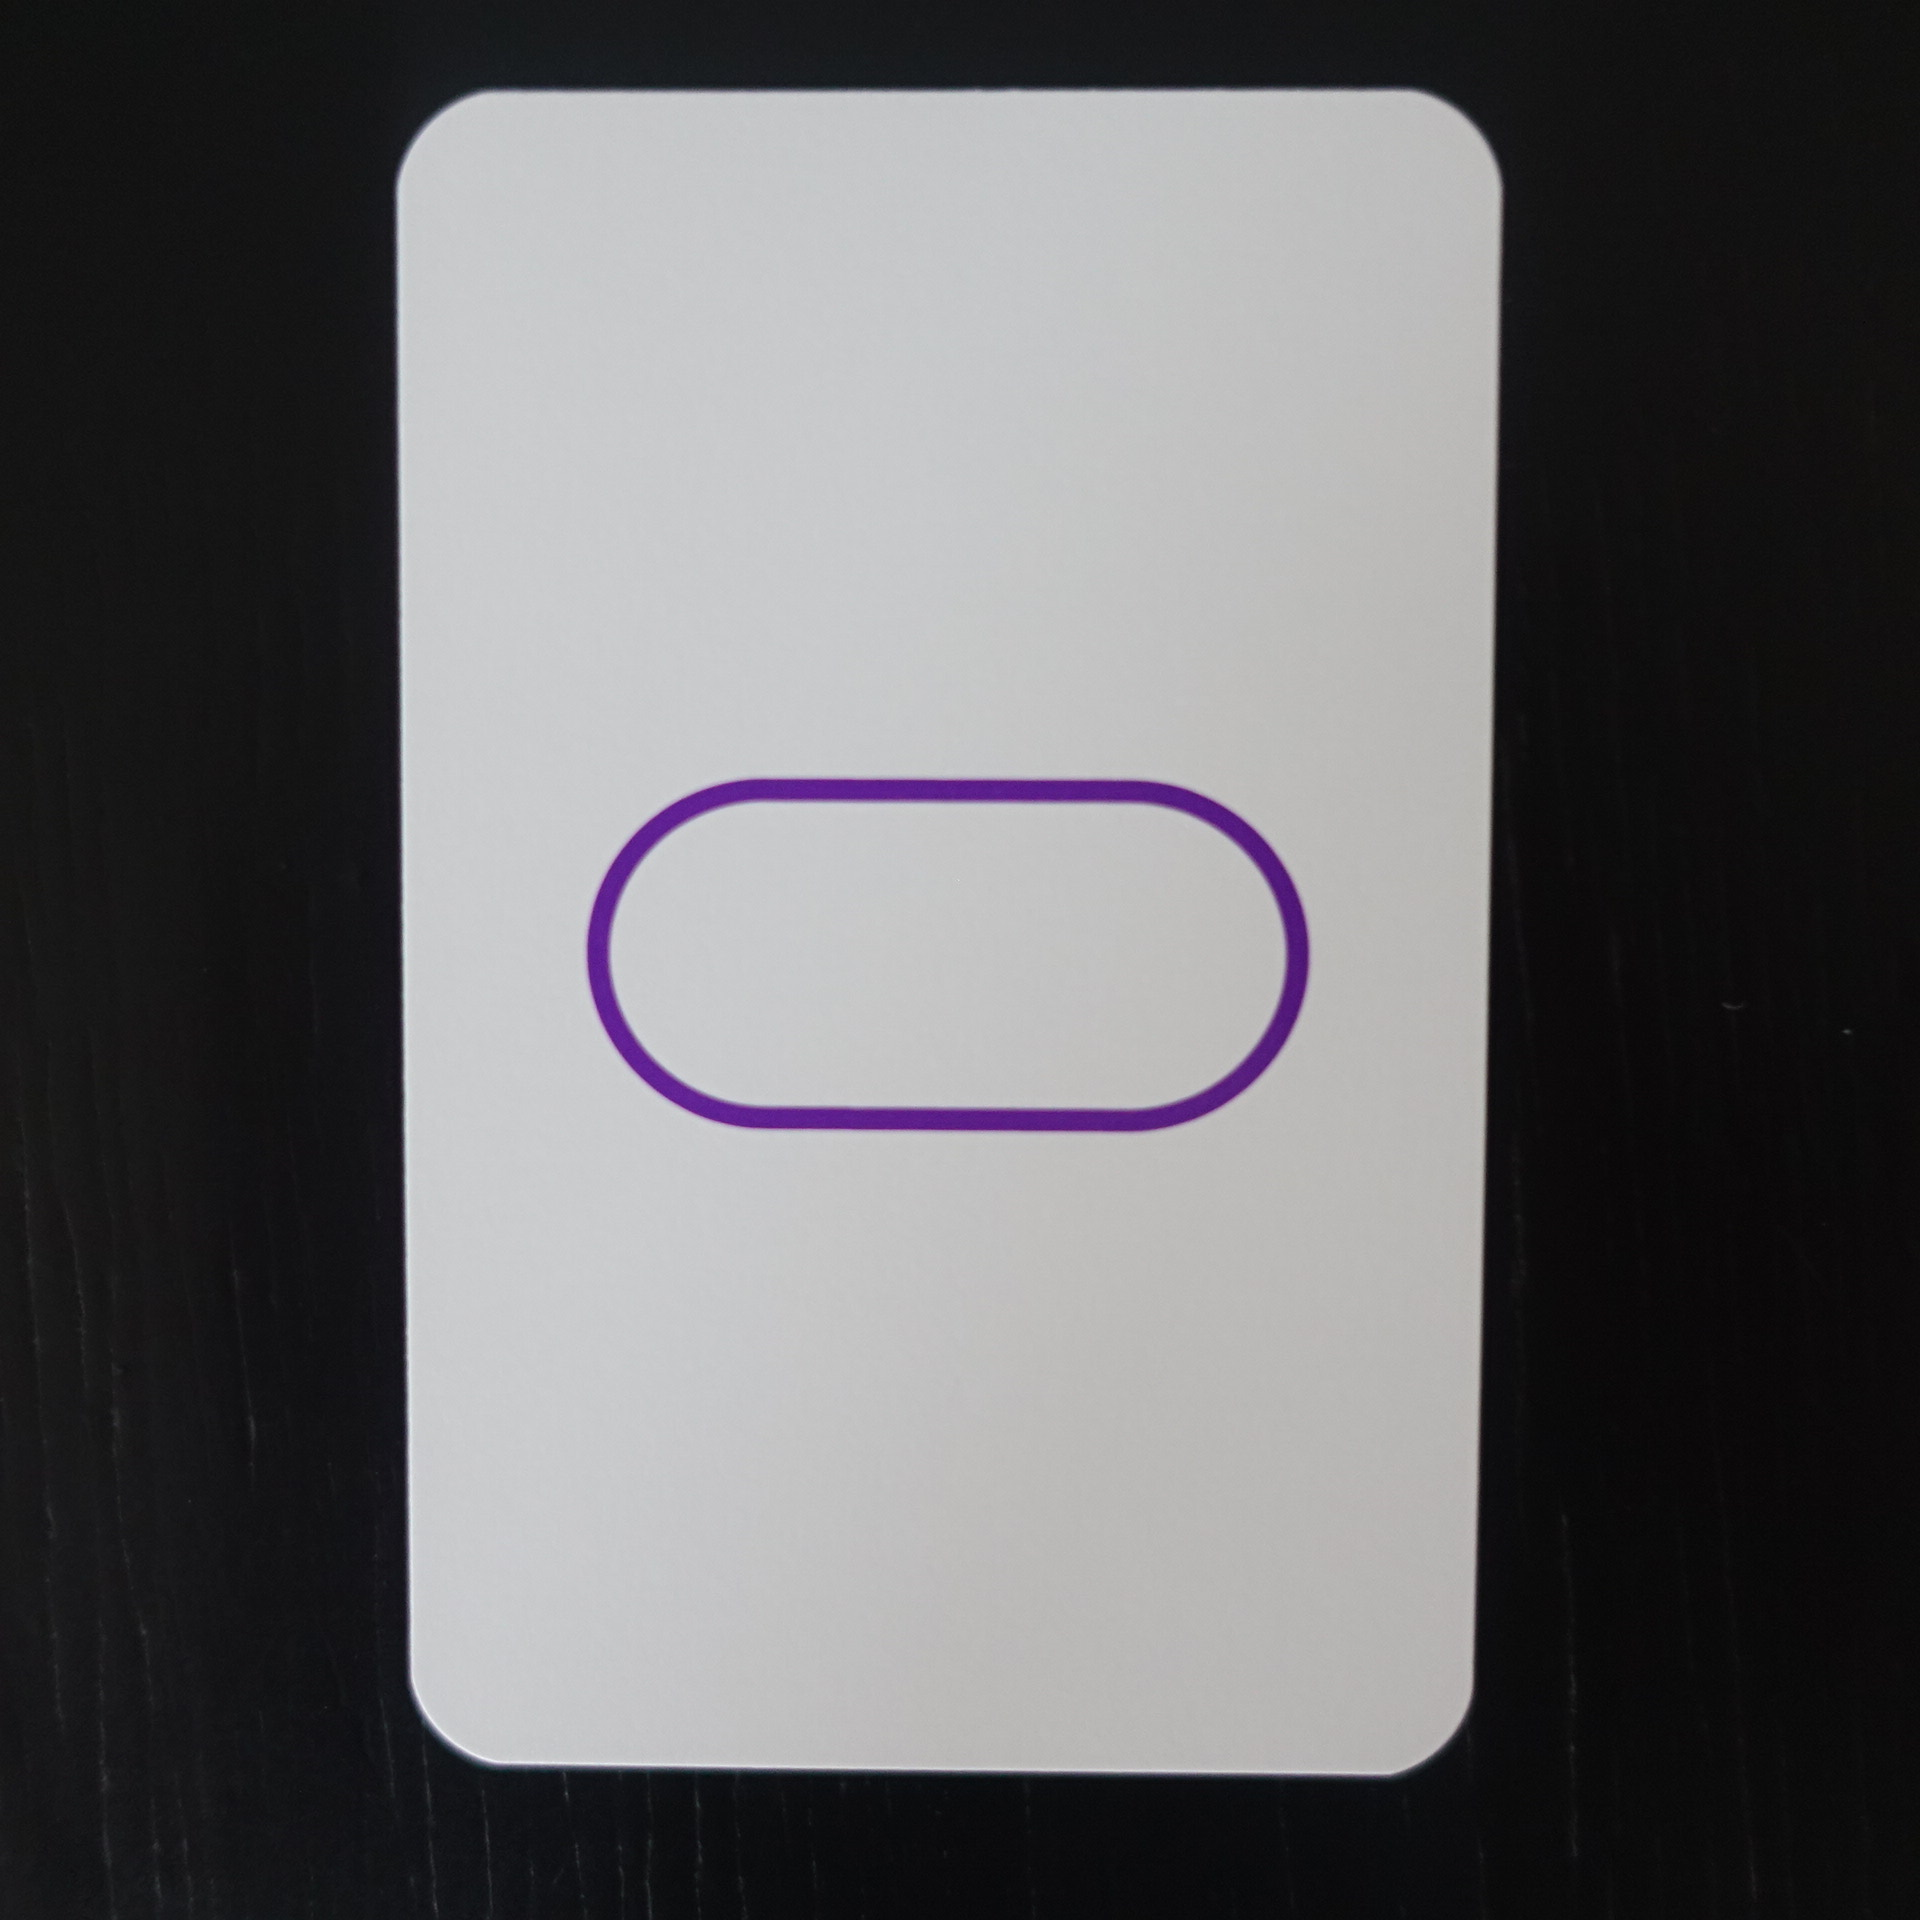c-1-u-o-p: (366, 65, 1528, 1809)
